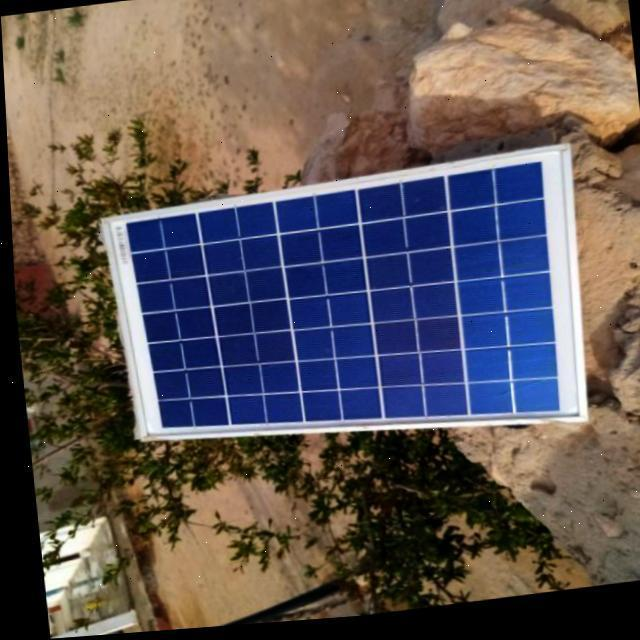Normal Solar Panel: (99, 154, 589, 478)
